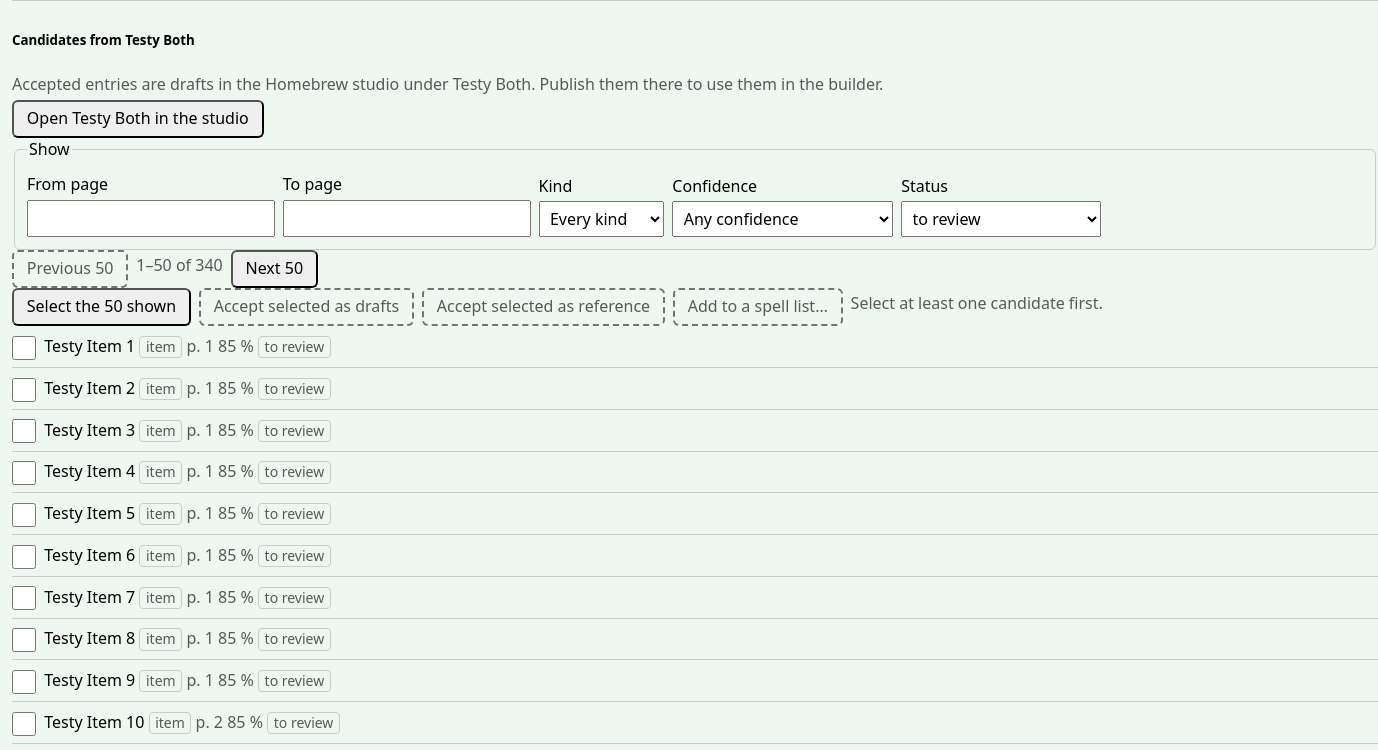
Test case: announces "Showing 51–100 of 340" politely when the page changes, and not on load
Expected: the button "Testy Item 1" is shown, top-left (44, 332), bottom-right (135, 361)
Expected: the text "Showing " is not shown
Click the button "Next 50" at (274, 269), box top-left (231, 250), bottom-right (318, 288)
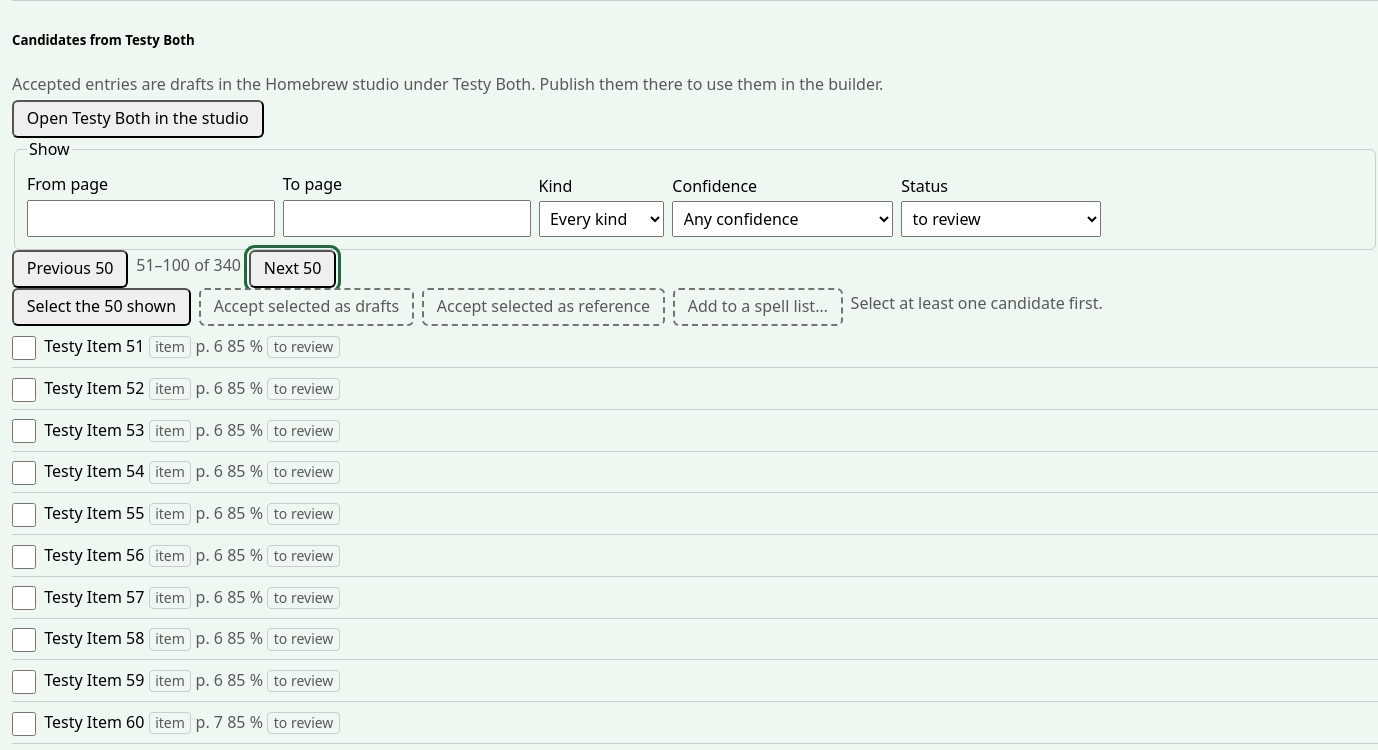
Result: the text "51–100 of 340" is shown at top-left (136, 254), bottom-right (241, 284)
